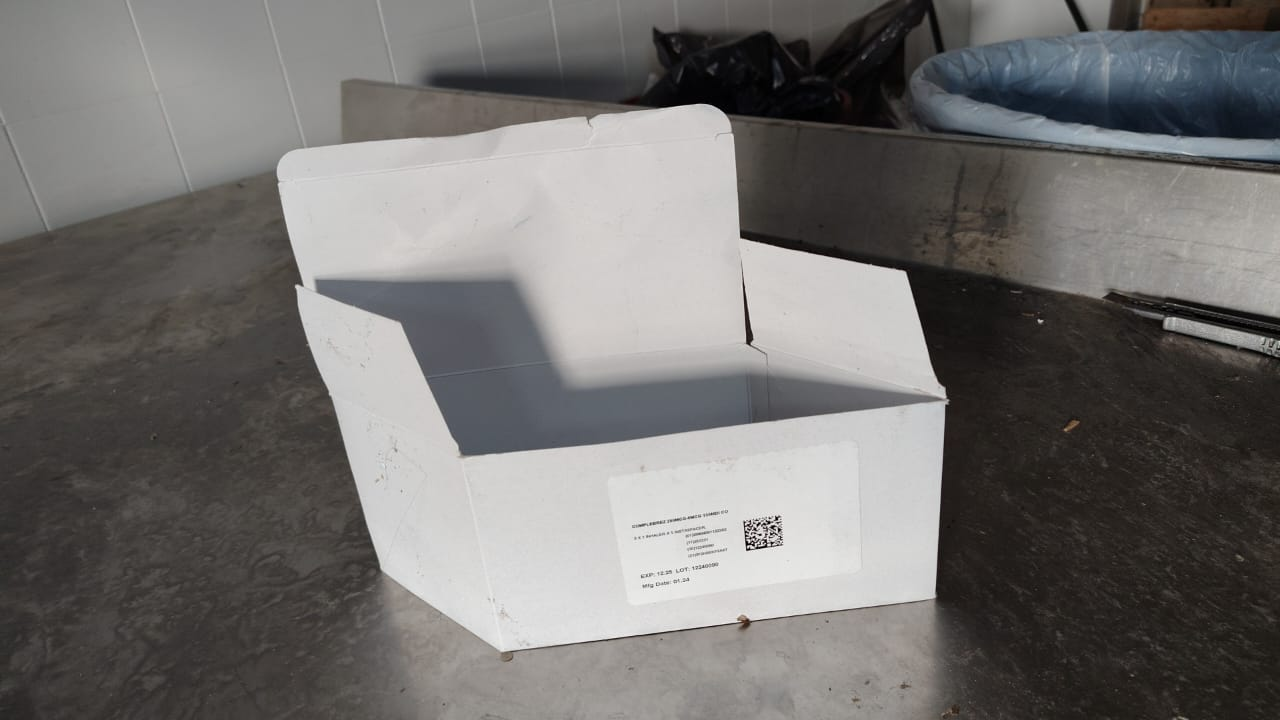Carton: (276, 103, 947, 654)
